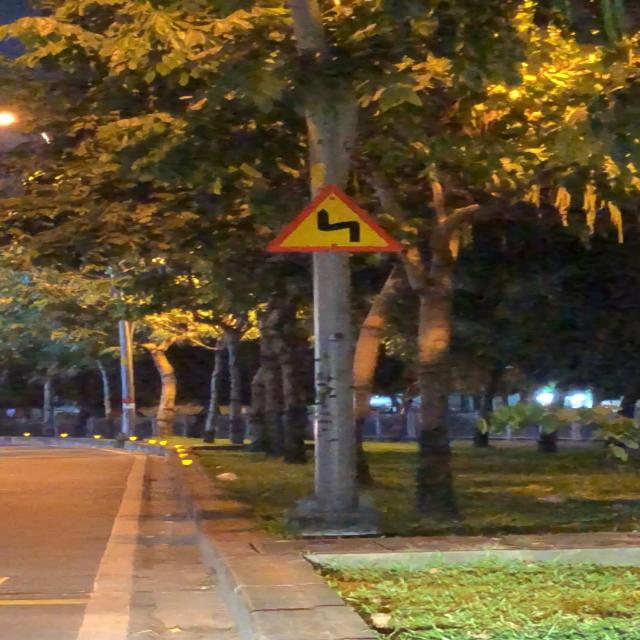Bien bao nhieu cho ngoat nguy hiem lien tiep: (263, 177, 407, 254)
